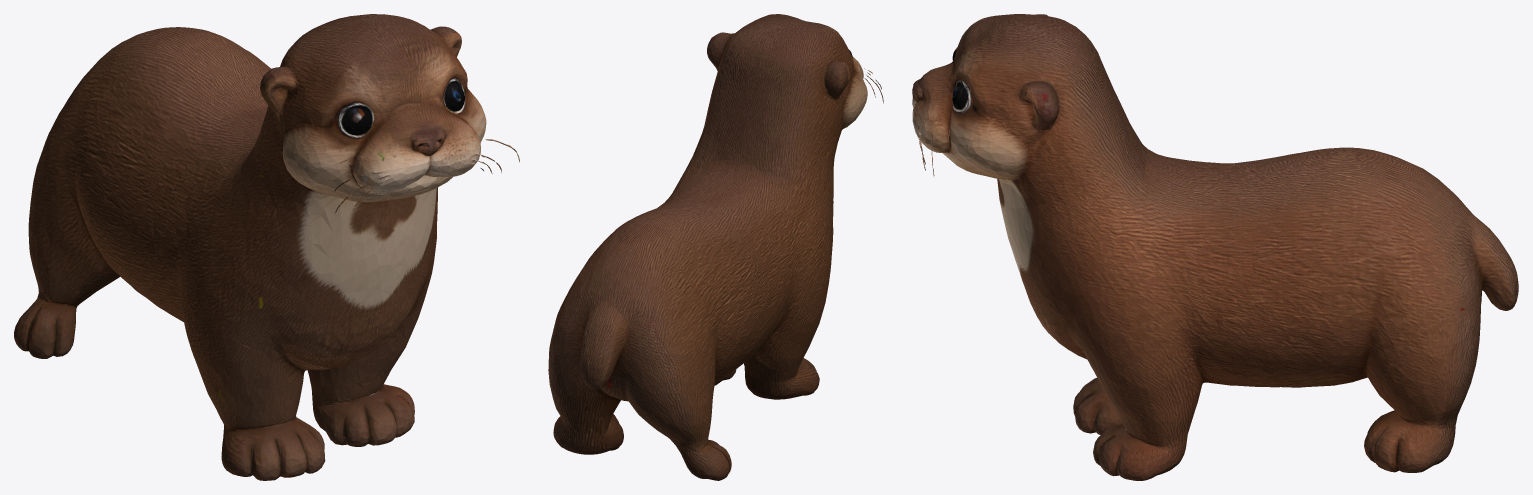
The model's file is nutria.fbx.
3 renders of one model, left to right at view 1: azimuth 30°, elevation 25°; view 2: azimuth 150°, elevation 25°; view 3: azimuth 270°, elevation 25°, orthographic. The views are drawn at different scales.
Visible parts, largest first — view 1: nutria; view 2: nutria; view 3: nutria.
Boxes of the visible parts, x1,y1,x2,y2 form: nutria: [14, 14, 519, 480]; nutria: [548, 14, 883, 480]; nutria: [912, 14, 1518, 480].
Size of the model in its own units: 0.8426 by 1.51 by 1.99.
1 material, 1 textured.
